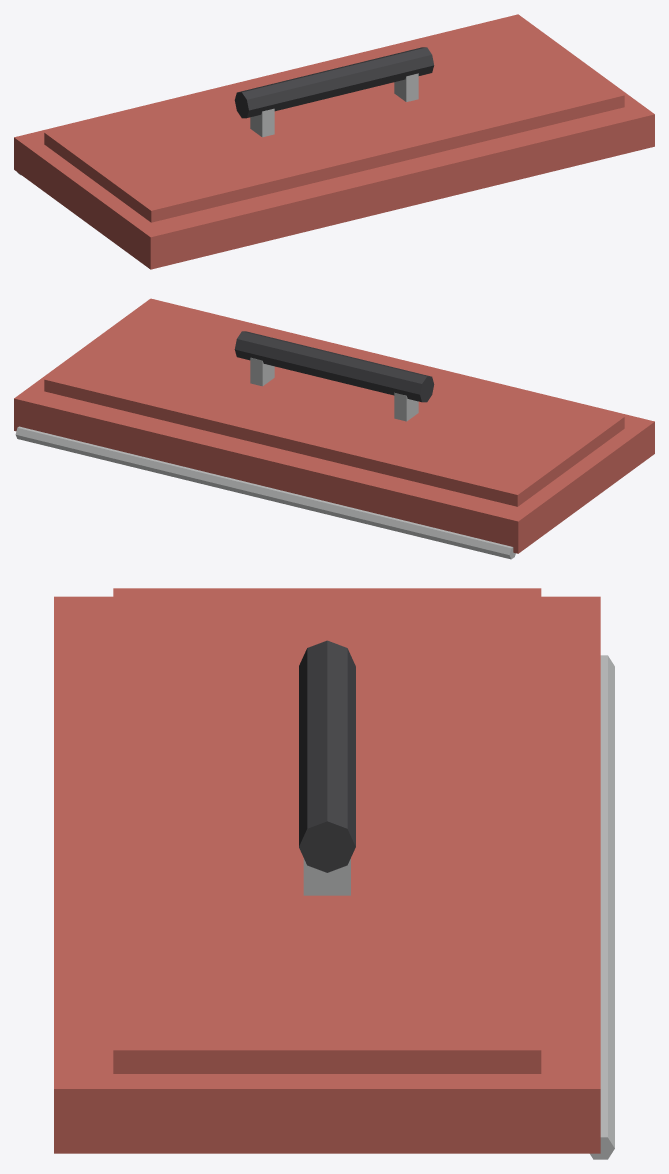
File: toolbox_lid.glb
3 views of the same model, one above another, from view 1: azimuth 30°, elevation 25°; view 2: azimuth 150°, elevation 25°; view 3: azimuth 270°, elevation 25° (orthographic). The views are drawn at different scales.
Parts seen in each view (by area): view 1: ToolboxLid; view 2: ToolboxLid; view 3: ToolboxLid.
Boxes of the visible parts, x1,y1,x2,y2 form: ToolboxLid: [14, 14, 654, 269]; ToolboxLid: [14, 298, 654, 559]; ToolboxLid: [54, 588, 614, 1159].
Size of the model in its own units: 0.49 by 0.0872 by 0.236.
